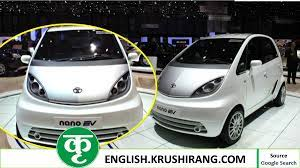Nano: (152, 33, 293, 149), (15, 26, 144, 149)
